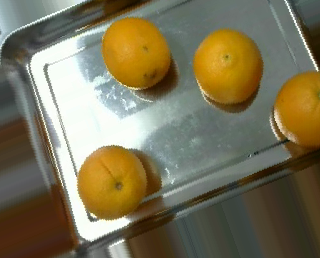Orange: (193, 27, 264, 103), (76, 143, 147, 219), (101, 16, 170, 88), (272, 71, 319, 148)
